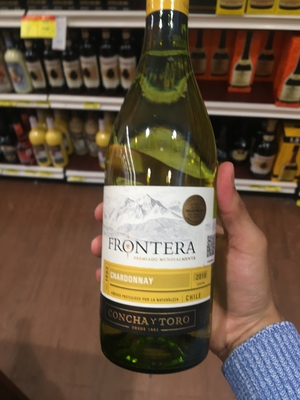frontera chardonnay: (93, 10, 225, 386)
